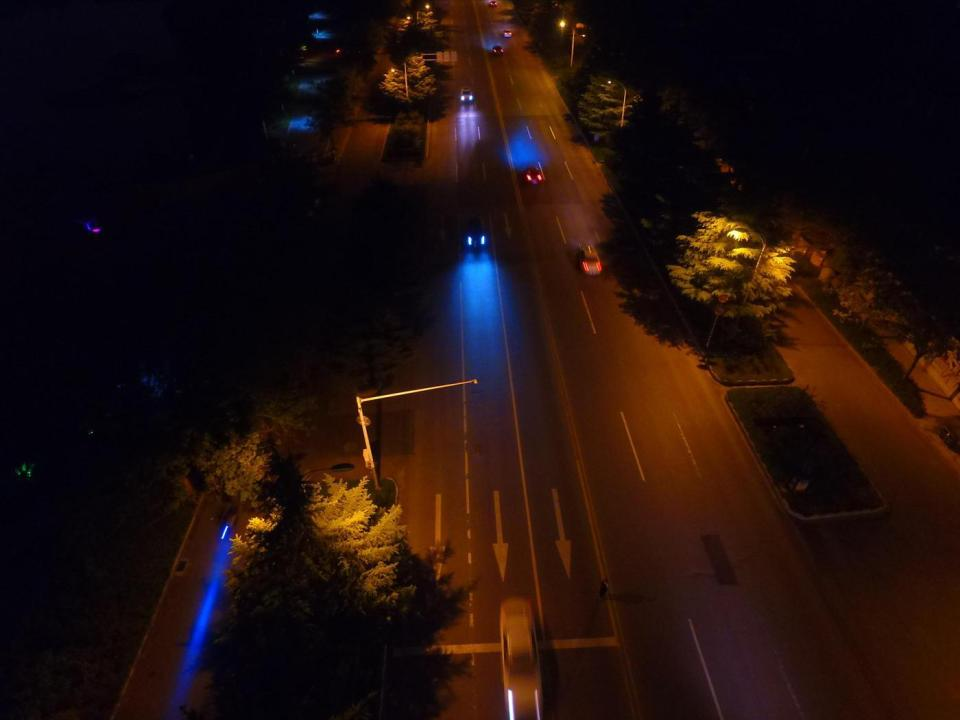car: (494, 595, 546, 718), (577, 242, 603, 276), (464, 215, 486, 249), (523, 158, 546, 187), (460, 88, 473, 105), (492, 43, 503, 54), (503, 28, 513, 38), (488, 0, 498, 8)
